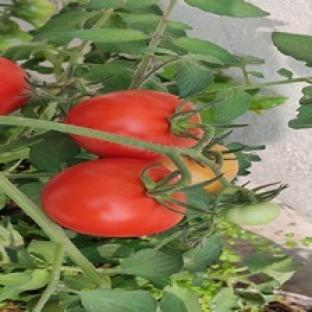Tomato: (42, 158, 183, 236), (66, 90, 196, 147), (0, 58, 29, 115), (222, 202, 279, 225), (184, 158, 215, 183), (0, 31, 32, 51)
